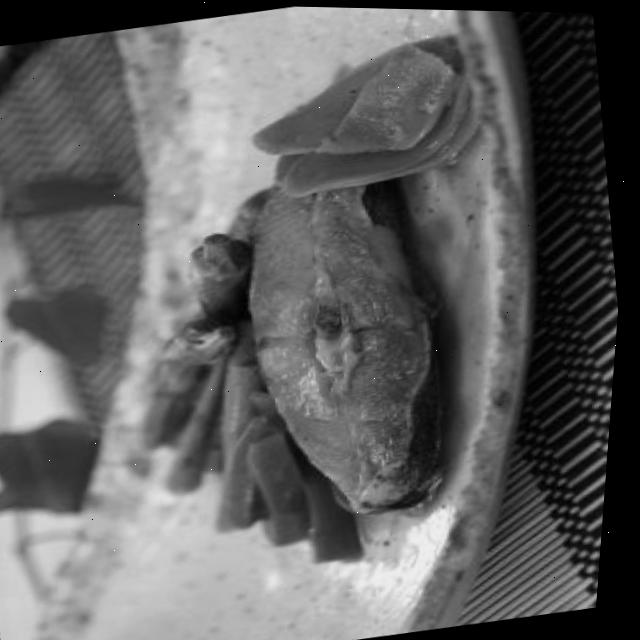熟制海鲜: (178, 80, 515, 545)
